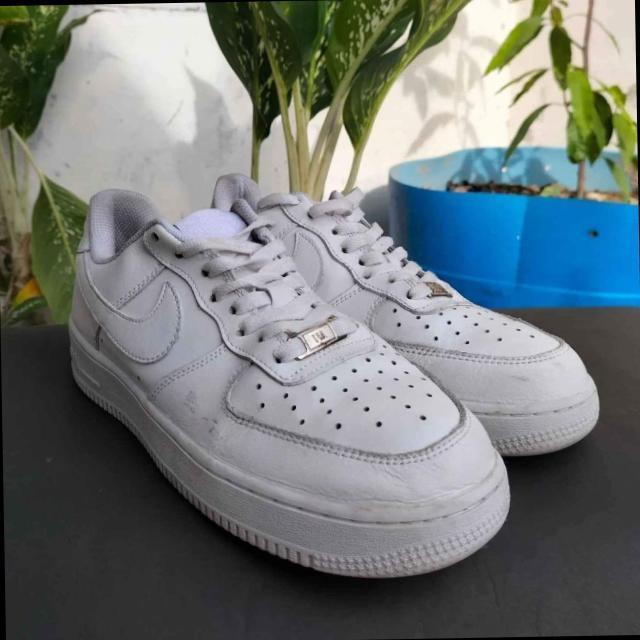nike original air force: (18, 180, 511, 585), (205, 168, 602, 464)
